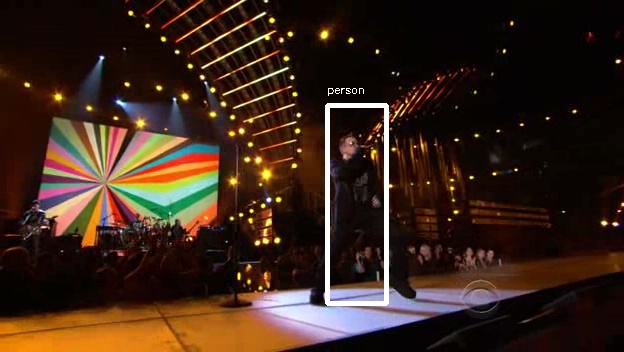person: (330, 135, 396, 255), (327, 135, 393, 255), (333, 135, 399, 255), (330, 132, 396, 252), (330, 138, 396, 258)
target_negative: (71, 32, 531, 217), (295, 51, 551, 249), (525, 239, 567, 347), (171, 350, 554, 352), (470, 346, 533, 349)
